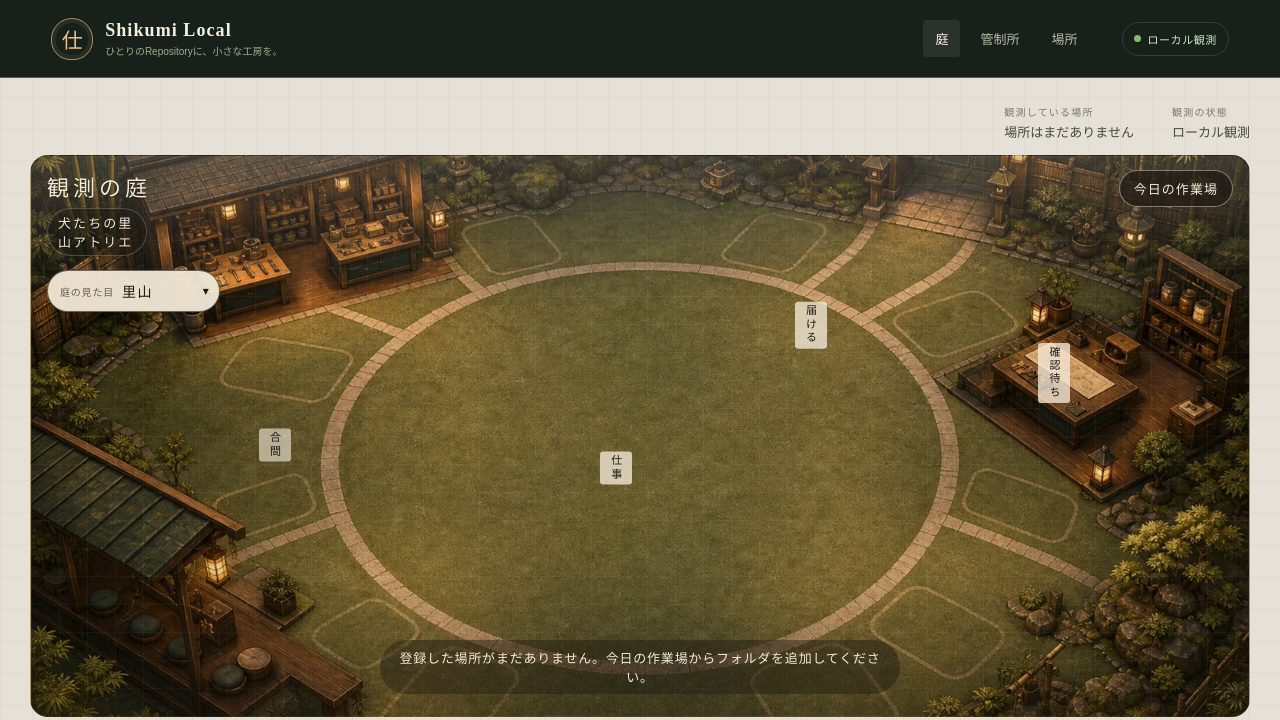
it: Shikumi Local garden › shows today's workshop without pretending work is running
The image size is (1280, 720).
Click the link "場所" at (1064, 40), box [1052,32,1078,47]
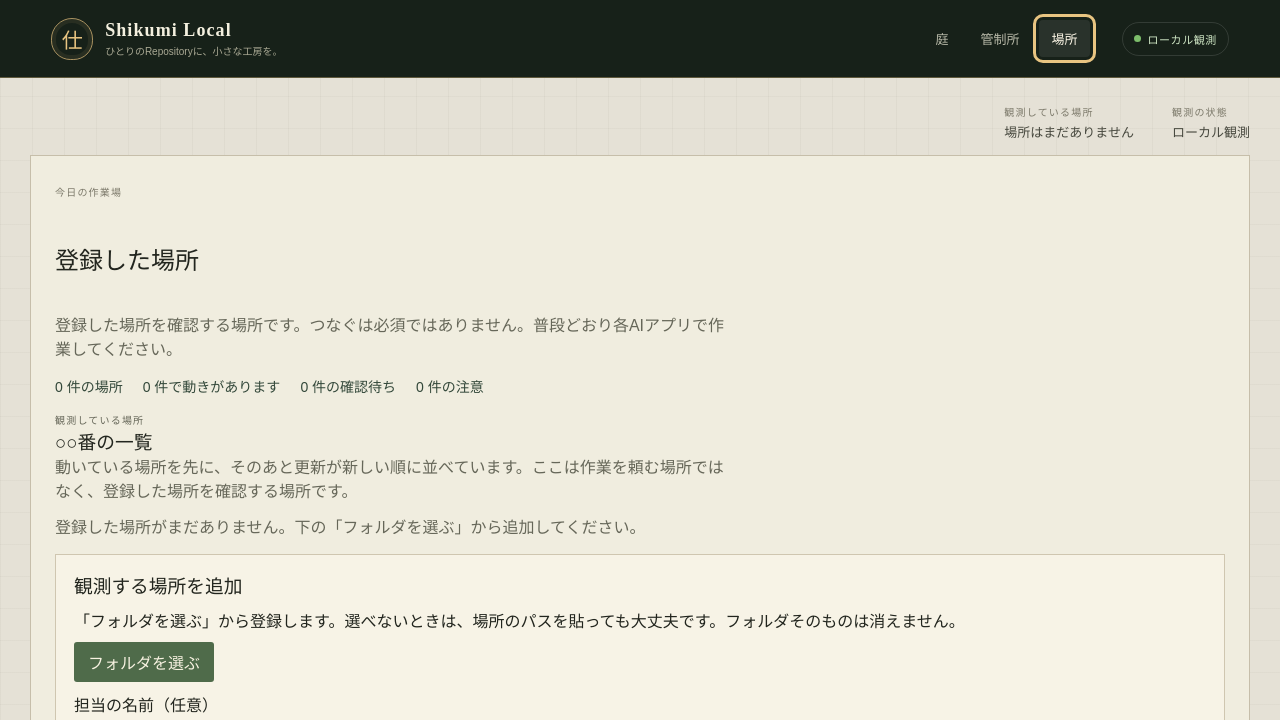
expect the element with test id "connection-badge" reads "ローカル観測": met, box [1148,34,1217,46]
expect the heading "登録した場所" is shown: met, box [55,247,199,274]
expect the element with test id "observer-stats" is shown: met, box [55,379,484,395]
